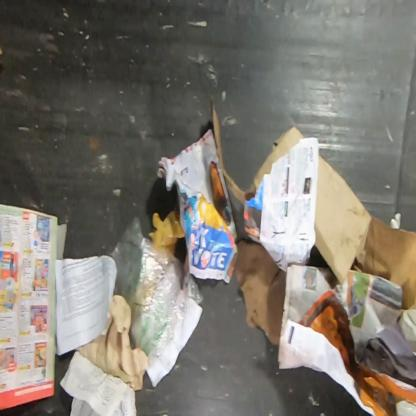cardboard: (211, 108, 306, 204), (313, 154, 373, 286), (351, 216, 415, 311), (233, 238, 286, 347)
soft_plastic: (105, 216, 205, 365)
